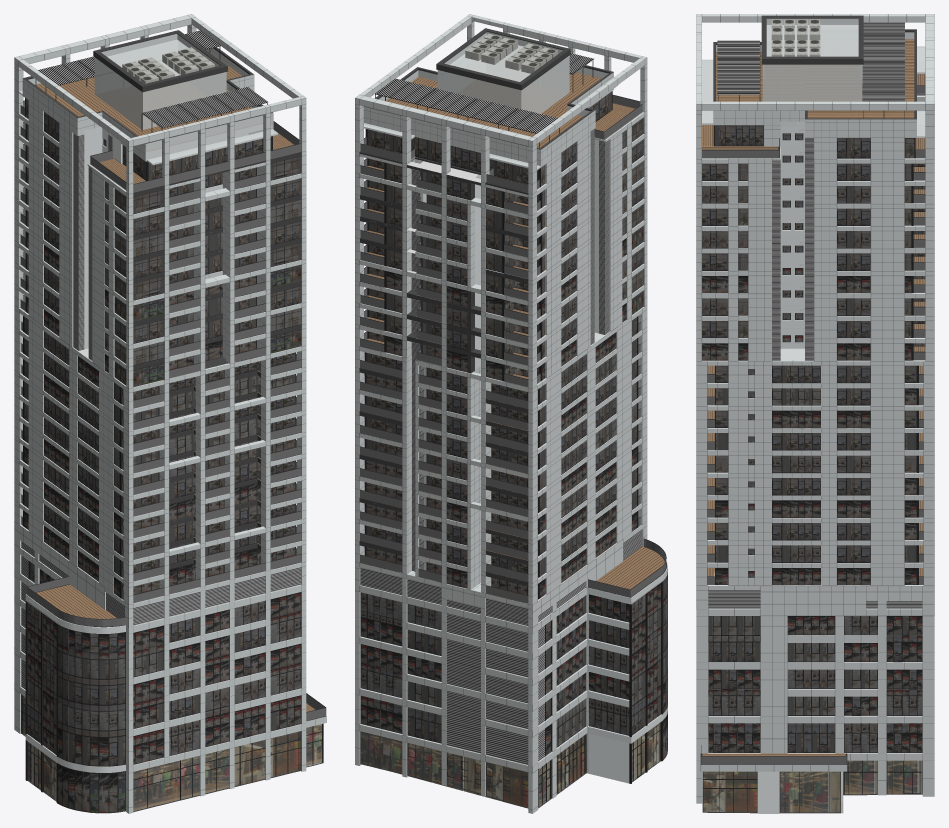
Rendered from building-2.glb.
3 renders of one model, left to right at view 1: azimuth 30°, elevation 25°; view 2: azimuth 150°, elevation 25°; view 3: azimuth 270°, elevation 25°, orthographic. The views are drawn at different scales.
Visible parts, largest first — view 1: Roof, floor_0, floor_6, floor_1, floor_044, floor_5, floor_4, floor_2, floor_3, floor_013_15, floor_015, floor_009 (+16 smaller); view 2: Roof, floor_0, floor_1, floor_6, floor_044, floor_4, floor_2, floor_3, floor_5, floor_025, floor_021_29, floor_017 (+16 smaller); view 3: Roof, floor_1, floor_0, floor_044, floor_6, floor_2, floor_3, floor_4, floor_5, floor_017, floor_025, floor_012_14_16 (+16 smaller).
Boxes of the visible parts, box(x1,y1,x2,y2) form: Roof: box(14, 14, 306, 170); floor_0: box(14, 689, 323, 813); floor_6: box(14, 521, 306, 633); floor_1: box(14, 653, 326, 772); floor_044: box(14, 87, 306, 195); floor_5: box(14, 550, 306, 659); floor_4: box(14, 576, 306, 685); floor_2: box(14, 628, 306, 737); floor_3: box(14, 602, 306, 711); floor_013_15: box(14, 371, 306, 476); floor_015: box(14, 328, 306, 433); floor_009: box(14, 458, 306, 562); Roof: box(355, 14, 647, 170); floor_0: box(355, 711, 667, 813); floor_1: box(355, 675, 667, 773); floor_6: box(355, 521, 667, 633); floor_044: box(355, 85, 647, 195); floor_4: box(355, 598, 667, 685); floor_2: box(355, 650, 667, 737); floor_3: box(355, 624, 667, 711); floor_5: box(355, 572, 667, 659); floor_025: box(355, 112, 647, 217); floor_021_29: box(355, 199, 647, 303); floor_017: box(355, 285, 647, 390); Roof: box(696, 14, 934, 134); floor_1: box(696, 723, 934, 771); floor_0: box(696, 760, 934, 813); floor_044: box(696, 46, 934, 160); floor_6: box(696, 568, 934, 615); floor_2: box(696, 695, 934, 723); floor_3: box(696, 669, 934, 696); floor_4: box(696, 642, 934, 669); floor_5: box(696, 616, 934, 642); floor_017: box(696, 328, 934, 362); floor_025: box(696, 95, 934, 183); floor_012_14_16: box(696, 433, 934, 475).
Bounding box in the file's own units: 3560 × 9698 × 2902.
Materials: 1 (1 with a texture image).
